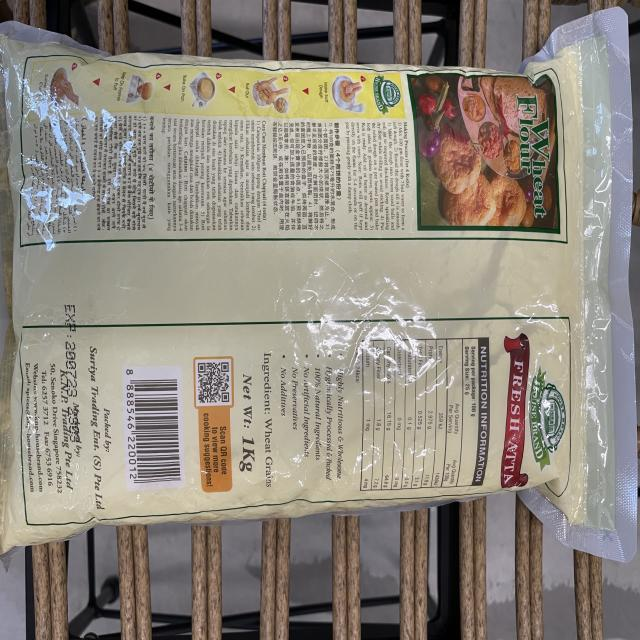object_name: (7, 59, 618, 521)
